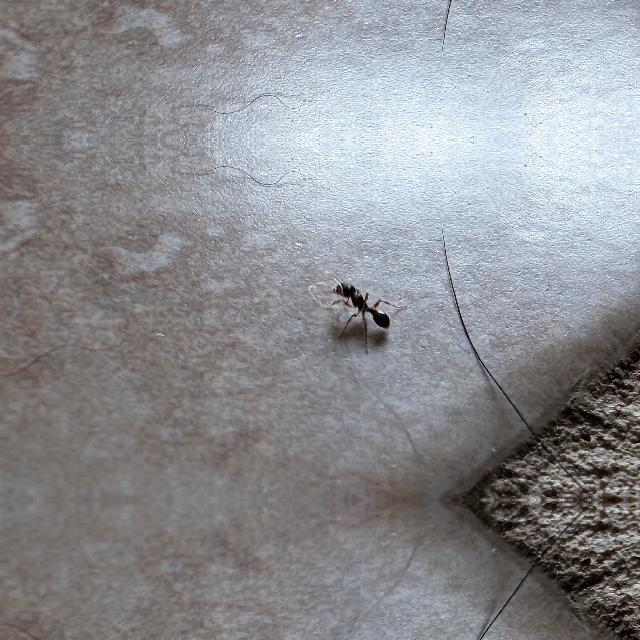Tetramorium: (324, 269, 402, 345)
